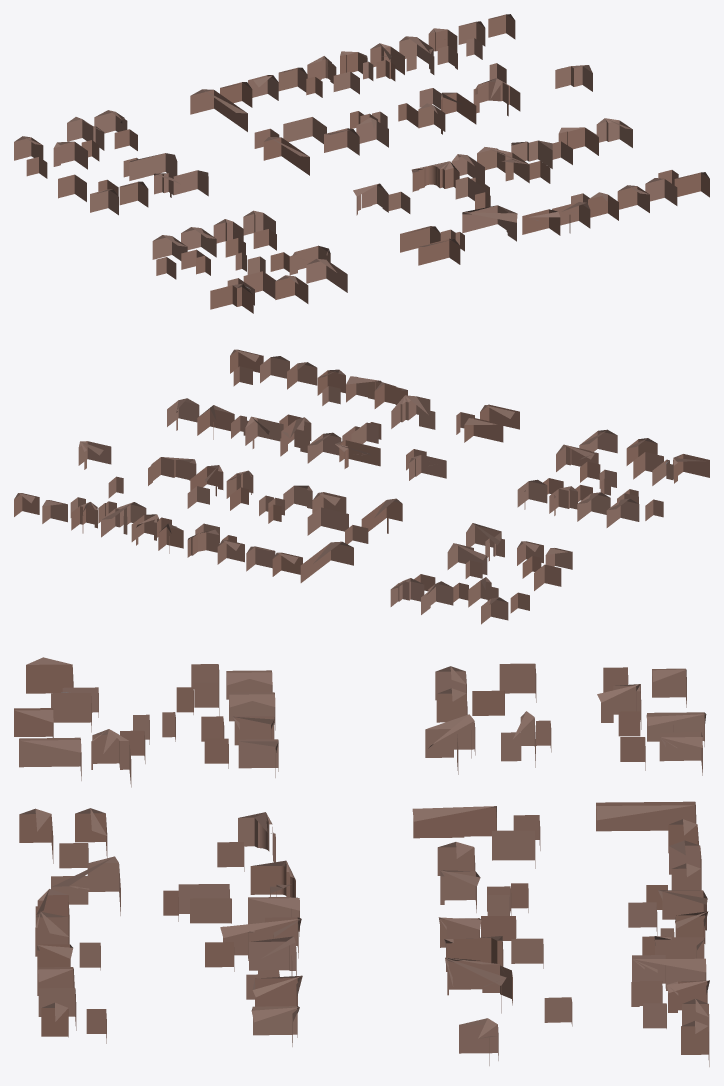
Rendered from c_1646_17828_buildings_residential.glb.
3 views of the same model, one above another, from view 1: azimuth 30°, elevation 25°; view 2: azimuth 150°, elevation 25°; view 3: azimuth 270°, elevation 25° (orthographic). The views are drawn at different scales.
Visible parts, largest first — view 1: geometry_0; view 2: geometry_0; view 3: geometry_0.
Part boxes in pixels (<box>): geometry_0: <box>14,14,709,313</box>; geometry_0: <box>14,349,709,624</box>; geometry_0: <box>14,657,709,1066</box>.
Size of the model in its own units: 264 by 10.94 by 202.
